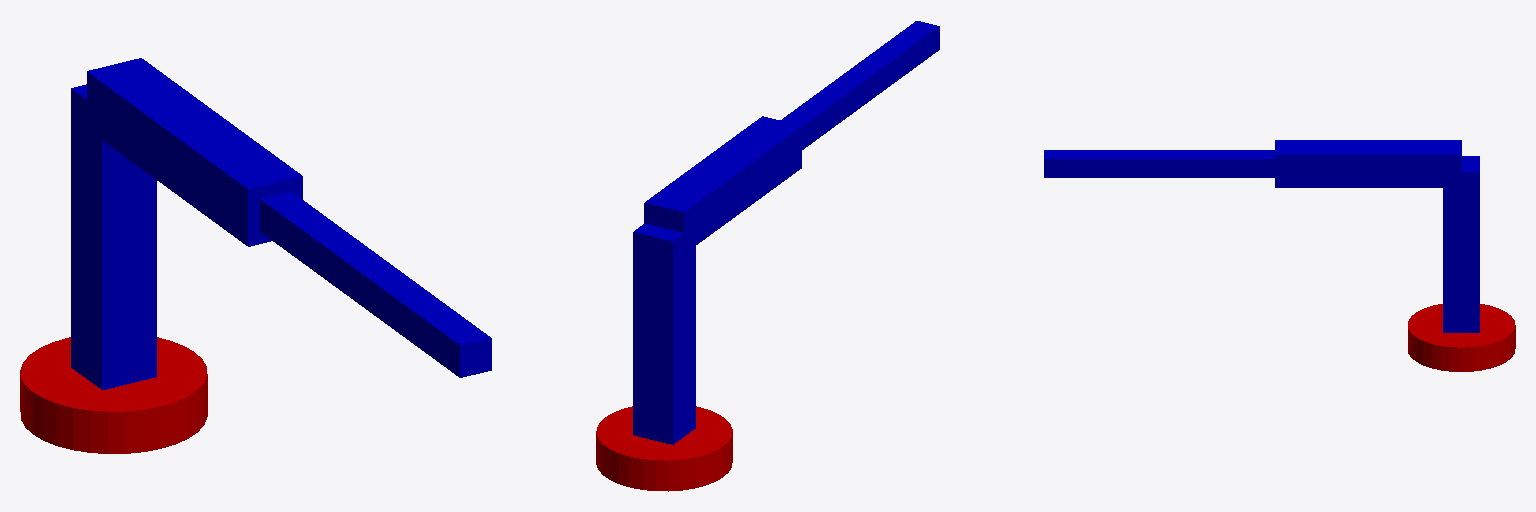
The robot description file, URDF, robot "divar3v36654":
<?xml version="1.0"?>
<robot  name="divar3v36654" >
 <material  name="blue" >
  <color  rgba="0 0 0.8 1.0" />
 </material>
 <material  name="red" >
  <color  rgba="0.8 0 0 1.0" />
 </material>
 <link  name="base_link" >
  <visual >
   <origin  rpy="0 0 0"  xyz="0 0 0" />
   <material  name="red" />
   <geometry >
    <cylinder  radius="0.1"  length="0.05" />
   </geometry>
  </visual>
 </link>
 <joint  name="joint1"  type="revolute" >
  <parent  link="base_link" />
  <child  link="link1" />
  <origin  rpy="0 0 0"  xyz="0 0 0" />
  <axis  xyz="0 0 1" />
 </joint>
 <link  name="link1" >
  <inertial >
   <origin  rpy="0 0 0"  xyz="0 0 0.17671274134805157" />
   <mass  value="12.435133509669388" />
   <inertia  ixx="0.13418049221825407"  iyz="0.0"  iyy="0.009483117402412766"  ixz="0.0"  izz="0.13418049221825407"  ixy="0.0" />
  </inertial>
  <visual >
   <origin  rpy="0 0 0"  xyz="0 0 0.17671274134805157" />
   <material  name="blue" />
   <geometry >
    <box  size="0.06764348315992888 0.06764348315992888 0.35342548269610313" />
   </geometry>
  </visual>
  <collision >
   <origin  rpy="0 0 0"  xyz="0 0 0.17671274134805157" />
   <geometry >
    <box  size="0.06764348315992888 0.06764348315992888 0.35342548269610313" />
   </geometry>
  </collision>
 </link>
 <joint  name="joint2"  type="revolute" >
  <parent  link="link1" />
  <child  link="link2" />
  <origin  rpy="1.5707 0 0"  xyz="0 0 0.35342548269610313" />
  <axis  xyz="1 0 0" />
 </joint>
 <link  name="link2" >
  <inertial >
   <origin  rpy="0 0 0"  xyz="0 0 0.11371399619652638" />
   <mass  value="8.001962472172545" />
   <inertia  ixx="0.037541962148706705"  iyz="0.0"  iyy="0.00610235101330495"  ixz="0.0"  izz="0.037541962148706705"  ixy="0.0" />
  </inertial>
  <visual >
   <origin  rpy="0 0 0"  xyz="0 0 0.11371399619652638" />
   <material  name="blue" />
   <geometry >
    <box  size="0.06764348315992888 0.06764348315992888 0.22742799239305275" />
   </geometry>
  </visual>
  <collision >
   <origin  rpy="0 0 0"  xyz="0 0 0.11371399619652638" />
   <geometry >
    <box  size="0.06764348315992888 0.06764348315992888 0.22742799239305275" />
   </geometry>
  </collision>
 </link>
 <joint  name="joint3"  type="revolute" >
  <parent  link="link2" />
  <child  link="link3" />
  <origin  rpy="0 0 0"  xyz="0 0 0.22742799239305275" />
  <axis  xyz="0 0 1" />
 </joint>
 <link  name="link3" >
  <inertial >
   <origin  rpy="0 0 0"  xyz="0 0 0.05889570643149349" />
   <mass  value="4.144443502120968" />
   <inertia  ixx="0.006372239980616991"  iyz="0.0"  iyy="0.003160580806608869"  ixz="0.0"  izz="0.006372239980616991"  ixy="0.0" />
  </inertial>
  <visual >
   <origin  rpy="0 0 0"  xyz="0 0 0.05889570643149349" />
   <material  name="blue" />
   <geometry >
    <box  size="0.06764348315992888 0.06764348315992888 0.11779141286298699" />
   </geometry>
  </visual>
  <collision >
   <origin  rpy="0 0 0"  xyz="0 0 0.05889570643149349" />
   <geometry >
    <box  size="0.06764348315992888 0.06764348315992888 0.11779141286298699" />
   </geometry>
  </collision>
 </link>
 <joint  name="joint4"  type="revolute" >
  <parent  link="link3" />
  <child  link="link4" />
  <origin  rpy="0 0 0"  xyz="0 0 0.11779141286298699" />
  <axis  xyz="0 1 0" />
 </joint>
 <link  name="link4" >
  <inertial >
   <origin  rpy="0 0 0"  xyz="0 0 0.06175599469306821" />
   <mass  value="1.412776519647921" />
   <inertia  ixx="0.0019711451817496974"  iyz="0.0"  iyy="0.00035025625671354903"  ixz="0.0"  izz="0.0019711451817496974"  ixy="0.0" />
  </inertial>
  <visual >
   <origin  rpy="0 0 0"  xyz="0 0 0.06175599469306821" />
   <material  name="blue" />
   <geometry >
    <box  size="0.038568419480239556 0.038568419480239556 0.12351198938613642" />
   </geometry>
  </visual>
  <collision >
   <origin  rpy="0 0 0"  xyz="0 0 0.06175599469306821" />
   <geometry >
    <box  size="0.038568419480239556 0.038568419480239556 0.12351198938613642" />
   </geometry>
  </collision>
 </link>
 <joint  name="joint5"  type="revolute" >
  <parent  link="link4" />
  <child  link="link5" />
  <origin  rpy="0 0 0"  xyz="0 0 0.12351198938613642" />
  <axis  xyz="0 0 1" />
 </joint>
 <link  name="link5" >
  <inertial >
   <origin  rpy="0 0 0"  xyz="0 0 0.0967099537223823" />
   <mass  value="2.212409540390007" />
   <inertia  ixx="0.00717166999130348"  iyz="0.0"  iyy="0.0005485016725274165"  ixz="0.0"  izz="0.00717166999130348"  ixy="0.0" />
  </inertial>
  <visual >
   <origin  rpy="0 0 0"  xyz="0 0 0.0967099537223823" />
   <material  name="blue" />
   <geometry >
    <box  size="0.038568419480239556 0.038568419480239556 0.1934199074447646" />
   </geometry>
  </visual>
  <collision >
   <origin  rpy="0 0 0"  xyz="0 0 0.0967099537223823" />
   <geometry >
    <box  size="0.038568419480239556 0.038568419480239556 0.1934199074447646" />
   </geometry>
  </collision>
 </link>
 <joint  name="joint6"  type="revolute" >
  <parent  link="link5" />
  <child  link="link6" />
  <origin  rpy="0 0 0"  xyz="0 0 0.1934199074447646" />
  <axis  xyz="0 1 0" />
 </joint>
 <link  name="link6" >
  <inertial >
   <origin  rpy="0 0 0"  xyz="0 0 0.005" />
   <mass  value="0.11438375550985157" />
   <inertia  ixx="4.4568112976777216e-05"  iyz="0.0"  iyy="8.722983002839023e-05"  ixz="0.0"  izz="4.4568112976777216e-05"  ixy="0.0" />
  </inertial>
  <visual >
   <origin  rpy="0 0 0"  xyz="0 0 0.005" />
   <material  name="blue" />
   <geometry >
    <box  size="0.038568419480239556 0.038568419480239556 0.01" />
   </geometry>
  </visual>
  <collision >
   <origin  rpy="0 0 0"  xyz="0 0 0.005" />
   <geometry >
    <box  size="0.038568419480239556 0.038568419480239556 0.01" />
   </geometry>
  </collision>
 </link>
 <joint  name="joint7"  type="revolute" >
  <parent  link="link6" />
  <child  link="link7" />
  <origin  rpy="0 0 0"  xyz="0 0 0.01" />
  <axis  xyz="1 0 0" />
 </joint>
 <link  name="link7" >
  <inertial >
   <origin  rpy="0 0 0"  xyz="0 0 0.05" />
   <mass  value="1.1438375550985158" />
   <inertia  ixx="0.00109498835007984"  iyz="0.0"  iyy="0.0002835807749954868"  ixz="0.0"  izz="0.00109498835007984"  ixy="0.0" />
  </inertial>
  <visual >
   <origin  rpy="0 0 0"  xyz="0 0 0.05" />
   <material  name="blue" />
   <geometry >
    <box  size="0.038568419480239556 0.038568419480239556 0.1" />
   </geometry>
  </visual>
  <collision >
   <origin  rpy="0 0 0"  xyz="0 0 0.05" />
   <geometry >
    <box  size="0.038568419480239556 0.038568419480239556 0.1" />
   </geometry>
  </collision>
 </link>
 <joint  name="eef_joint"  type="fixed" >
  <parent  link="link7" />
  <child  link="eef" />
  <origin  rpy="0 0 0"  xyz="0 0 0.1" />
 </joint>
 <link  name="eef" />
</robot>

--- Render facts (derived) ---
3 views of the same robot in one strip: view 1: azimuth 30°, elevation 25°; view 2: azimuth 150°, elevation 25°; view 3: azimuth 270°, elevation 25° (orthographic).
Model divar3v36654 with 9 links and 8 joints (7 revolute, 1 fixed), rooted at base_link, posed all joints at 0.
Links seen in each view (by area): view 1: link1, base_link, link2, link3, link5, link7, link4; view 2: link1, base_link, link2, link3, link5, link7, link4; view 3: link1, link2, base_link, link3, link5, link4, link7.
Link boxes in pixels (x1,y1,x2,y2): link1: (71, 84, 156, 389); base_link: (20, 337, 207, 453); link2: (87, 58, 247, 205); link3: (193, 136, 302, 246); link5: (318, 234, 438, 339); link7: (413, 304, 491, 377); link4: (260, 191, 348, 273); link1: (633, 223, 695, 444); base_link: (596, 406, 732, 491); link2: (644, 146, 761, 247); link3: (722, 116, 801, 196); link5: (814, 48, 901, 124); link7: (883, 21, 939, 73); link4: (780, 96, 835, 149); link1: (1443, 156, 1479, 332); link2: (1339, 140, 1461, 187); base_link: (1408, 304, 1515, 371); link3: (1275, 140, 1338, 187); link5: (1104, 150, 1207, 177); link4: (1208, 150, 1274, 177); link7: (1044, 150, 1097, 177).
Size in the robot's own frame: 0.2 by 0.8722 by 0.4123 metres.
Geometry: primitives only (box / cylinder / sphere), no mesh files.
